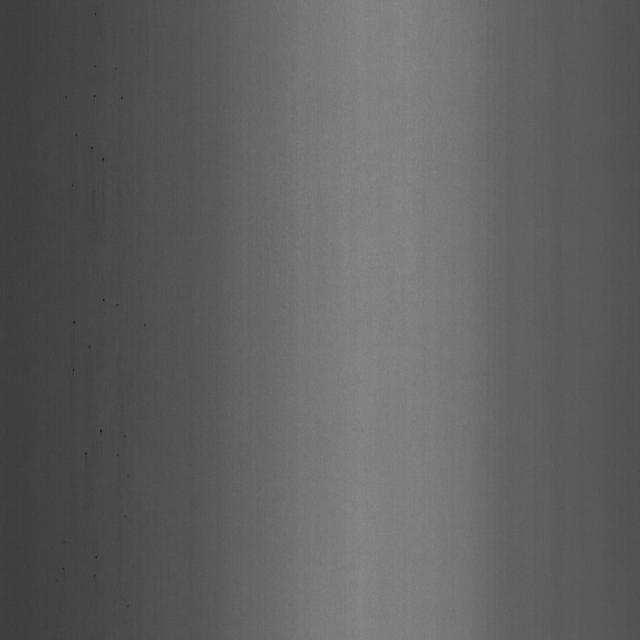oil_spot: (81, 418, 127, 461), (69, 301, 90, 379), (84, 139, 110, 171), (114, 78, 130, 110)
